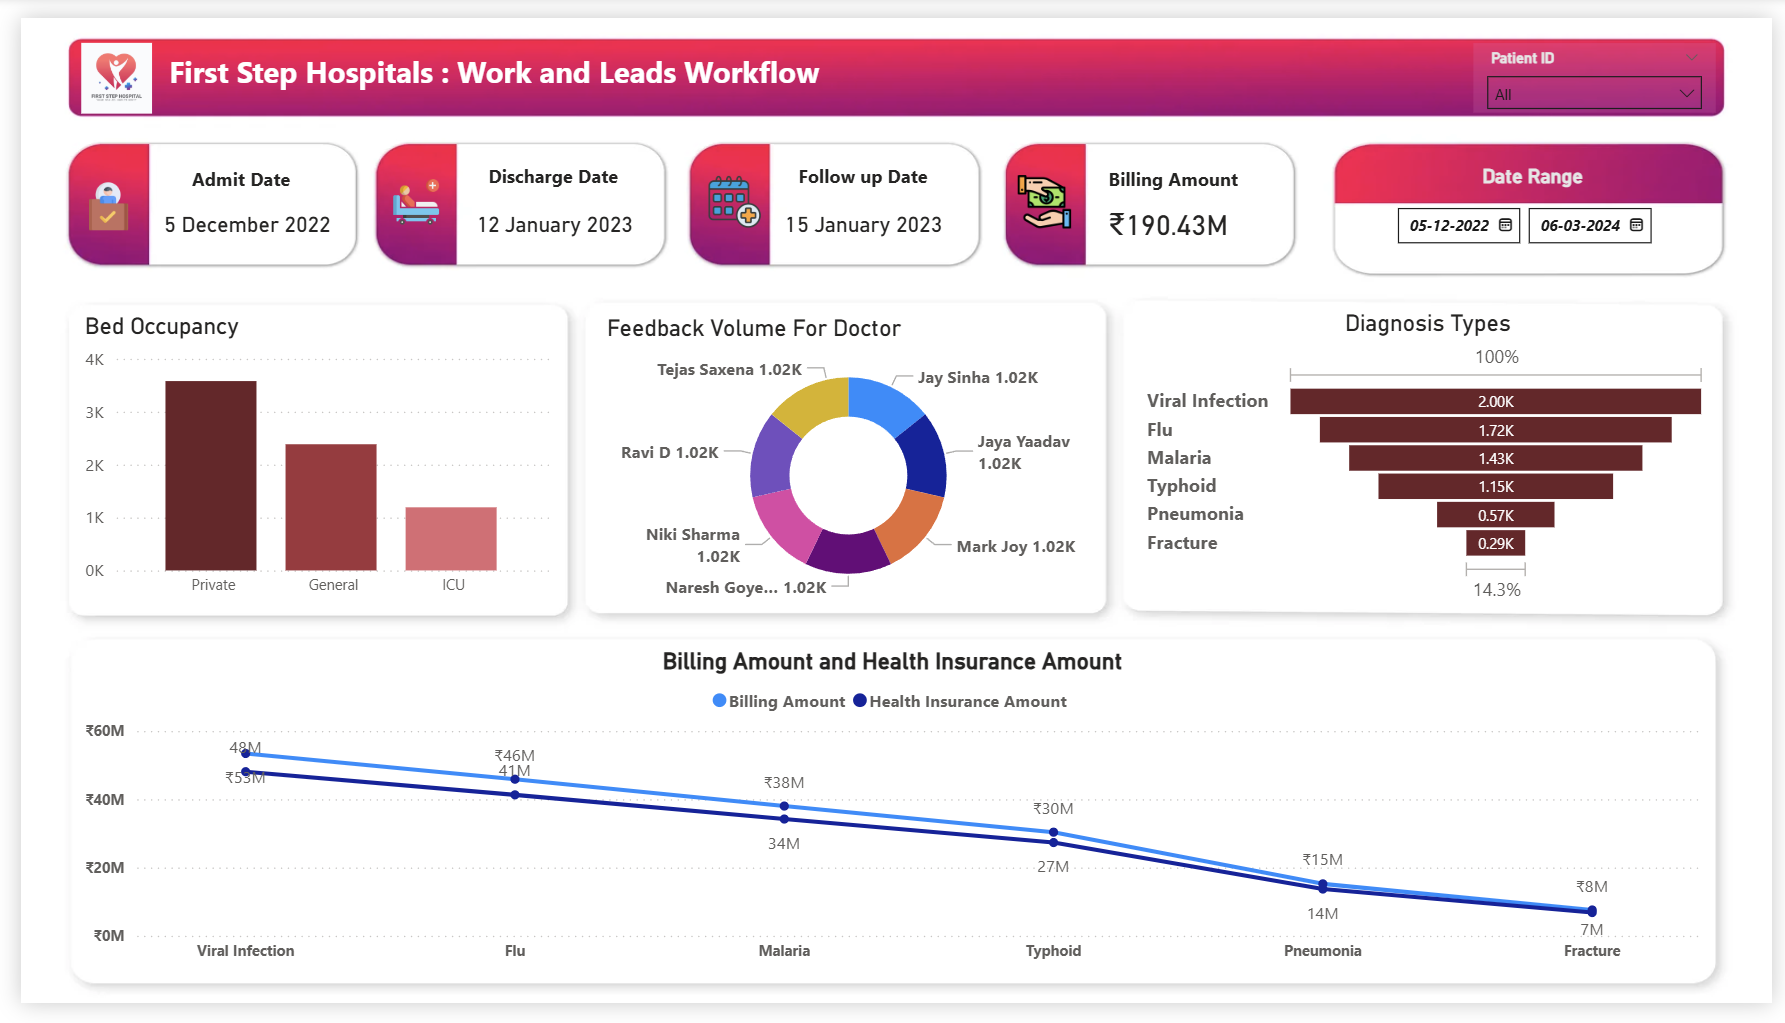

This screenshot's page, from the dashboard's own definition file:
{"tool":"powerbi","page":{"name":"Page 1","canvas":[1280,720],"ordinal":0},"visuals":[{"type":"image","box":[29.5,12.6,79.5,61.8],"z":0},{"type":"textbox","box":[104,20,582,46],"z":1},{"type":"slicer","fields":{"Values":["Sheet1.Patient_ID"]},"box":[1060.9,18.2,177.3,50.9],"z":2},{"type":"card","fields":{"Values":["Sheet1.Admit_Date"]},"box":[98.6,131.4,138.6,42.9],"z":3},{"type":"textbox","box":[120.7,102.9,94.3,28.6],"z":4},{"type":"textbox","box":[337.1,102.1,110,28.6],"z":5},{"type":"card","fields":{"Values":["Sheet1.Discharge_Date"]},"box":[322.9,131.4,138.6,42.9],"z":6},{"type":"textbox","box":[563.6,102.1,105.7,28.6],"z":7},{"type":"card","fields":{"Values":["Sheet1.Followup Date"]},"box":[547.1,131.4,138.6,42.9],"z":8},{"type":"textbox","box":[790.7,102.9,108.6,28.6],"z":9},{"type":"card","fields":{"Values":["Sheet1.Billing Amount"]},"box":[786,131.3,108.7,42.7],"z":10},{"type":"slicer","title":"Date Range","fields":{"Values":["Sheet1.Admit_Date"]},"box":[993.3,102.5,223.3,85.8],"z":11},{"type":"image","box":[42,110,45,55],"z":12},{"type":"image","box":[265,110,48,49],"z":13},{"type":"image","box":[497,107,50,55],"z":14},{"type":"image","box":[724,110,50,49],"z":15},{"type":"columnChart","title":"Bed Occupancy","fields":{"Category":["Sheet1.Bed_Occupancy"],"Y":["Sheet1.Bed_Occupancy"]},"box":[42,215,350,218],"z":16},{"type":"donutChart","title":"Feedback Volume For Doctor","fields":{"Y":["Sheet1.Doctor"],"Category":["Sheet1.Doctor"]},"box":[423.3,216.7,363.3,216.7],"z":17},{"type":"funnel","title":"Diagnosis Types","fields":{"Category":["Sheet1.Diagnosis"],"Y":["Sheet1.Diagnosis"]},"box":[818.3,213.3,420,218.3],"z":18},{"type":"lineChart","title":"Billing Amount and Health Insurance Amount","fields":{"Y":["Sheet1.Billing Amount","Sheet1.Health Insurance Amount"],"Category":["Sheet1.Diagnosis"]},"box":[41.5,460,1190.8,240],"z":19}]}

Visuals, with their boxes in screenshot pixels (x1, y1, x2, y2), scaled from the page's 1280x720 canvas onto the 1785x1023 screenshot:
image: (x1=41, y1=18, x2=152, y2=106)
textbox: (x1=145, y1=28, x2=957, y2=94)
slicer - Sheet1.Patient_ID: (x1=1479, y1=26, x2=1727, y2=98)
card - Sheet1.Admit_Date: (x1=138, y1=187, x2=331, y2=248)
textbox: (x1=168, y1=146, x2=300, y2=187)
textbox: (x1=470, y1=145, x2=623, y2=186)
card - Sheet1.Discharge_Date: (x1=450, y1=187, x2=644, y2=248)
textbox: (x1=786, y1=145, x2=933, y2=186)
card - Sheet1.Followup Date: (x1=763, y1=187, x2=956, y2=248)
textbox: (x1=1103, y1=146, x2=1254, y2=187)
card - Sheet1.Billing Amount: (x1=1096, y1=187, x2=1248, y2=247)
"Date Range" slicer: (x1=1385, y1=146, x2=1697, y2=268)
image: (x1=59, y1=156, x2=121, y2=234)
image: (x1=370, y1=156, x2=436, y2=226)
image: (x1=693, y1=152, x2=763, y2=230)
image: (x1=1010, y1=156, x2=1079, y2=226)
"Bed Occupancy" columnChart: (x1=59, y1=305, x2=547, y2=615)
"Feedback Volume For Doctor" donutChart: (x1=590, y1=308, x2=1097, y2=616)
"Diagnosis Types" funnel: (x1=1141, y1=303, x2=1727, y2=613)
"Billing Amount and Health Insurance Amount" lineChart: (x1=58, y1=654, x2=1718, y2=995)
